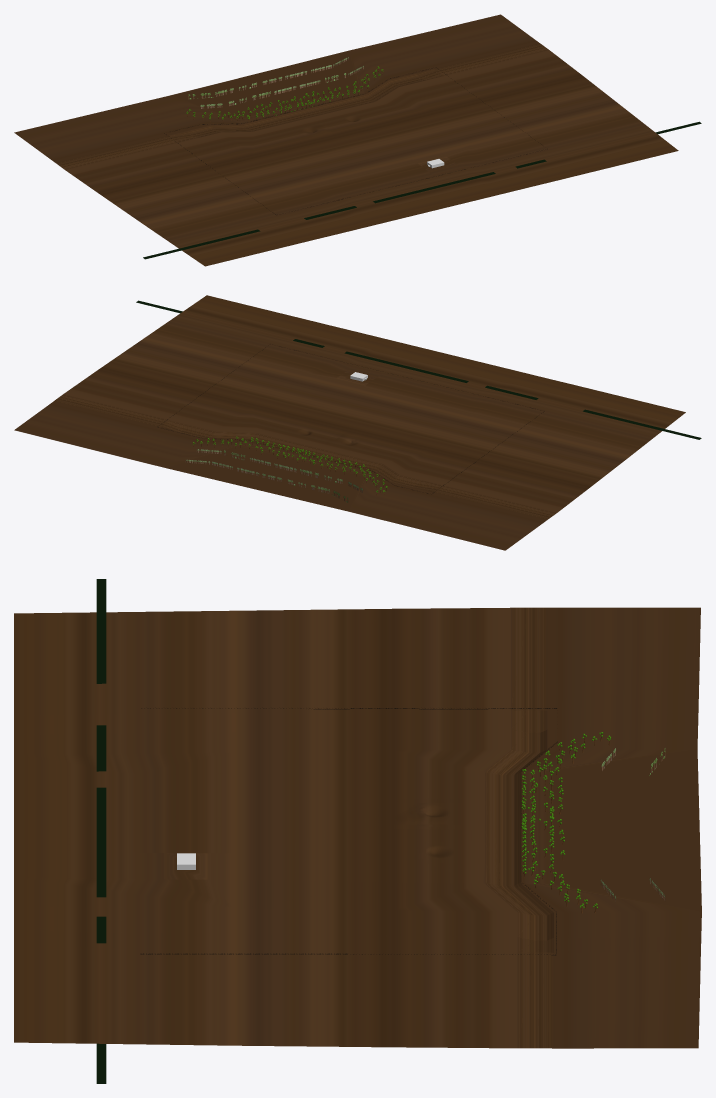
File: map_1.glb
3 renders of one model, top to bottom at view 1: azimuth 30°, elevation 25°; view 2: azimuth 150°, elevation 25°; view 3: azimuth 270°, elevation 25°, orthographic. The views are drawn at different scales.
Visible parts, largest first — view 1: Ground, Road.003; view 2: Ground, Road.003; view 3: Ground, Road.003.
Boxes of the visible parts, x1,y1,x2,y2 form: Ground: (14,14,678,266); Road.003: (143,121,701,259); Ground: (14,295,685,550); Road.003: (136,300,701,439); Ground: (14,607,701,1048); Road.003: (96,579,106,1083).
Size of what is drawn, in the model's own units: 1000 by 13.72 by 576.
Materials: 26 (16 with a texture image).
